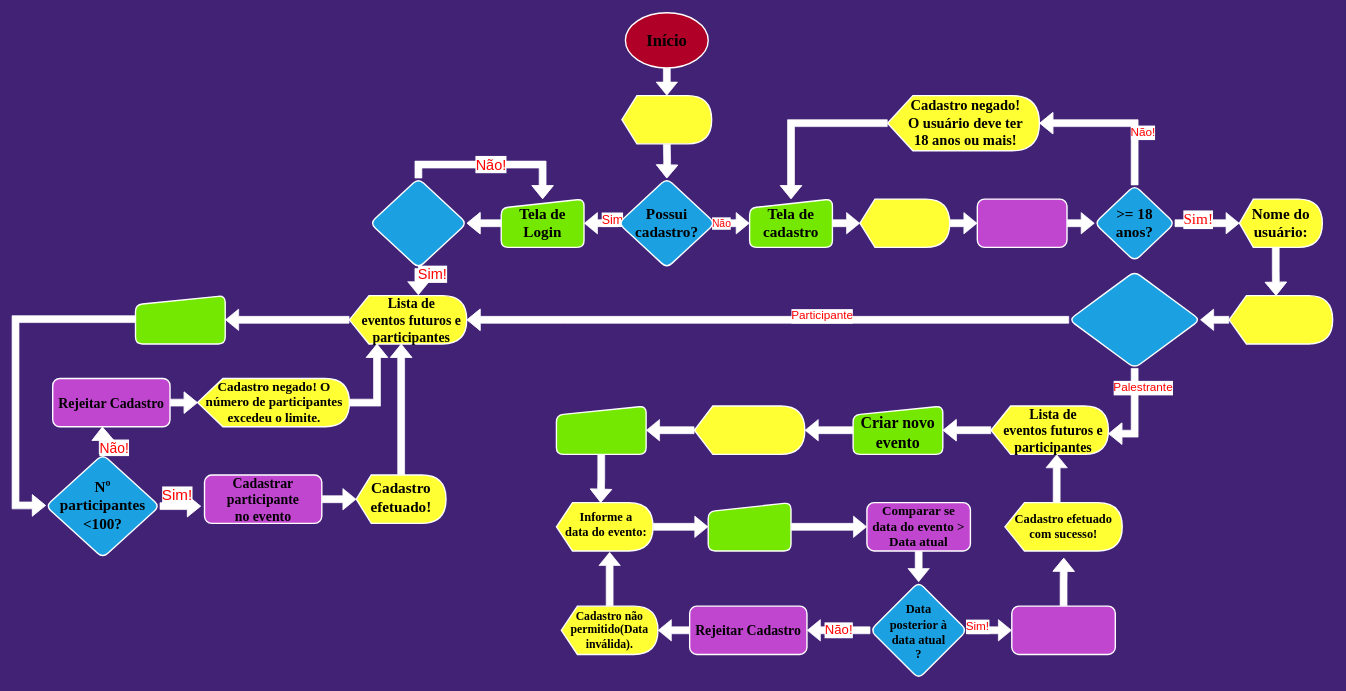
Some shapes in this 1346 by 691 pixel diagram are drawn without their labels. Here are the shapes that lost their labels. From the top down, the centre of each, then its label:
[666,119]: Bem vindo!
[418,222]: Dados Corretos?
[904,223]: Data de nascimento:
[1021,223]: Data atual - data inserida = Idade
[180,319]: Evento selecionado
[1134,319]: Palestrante ou participante
[1280,319]: Palestrante ou participante?
[600,430]: Nome do evento
[749,430]: Informe o nome do evento:
[749,526]: Data do evento
[1063,630]: Cadastrar evento.
